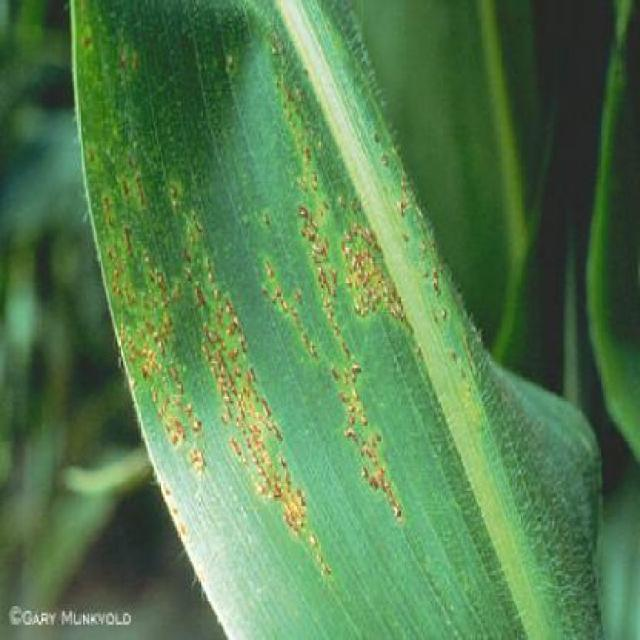Corn_Rust: (77, 91, 481, 563)
